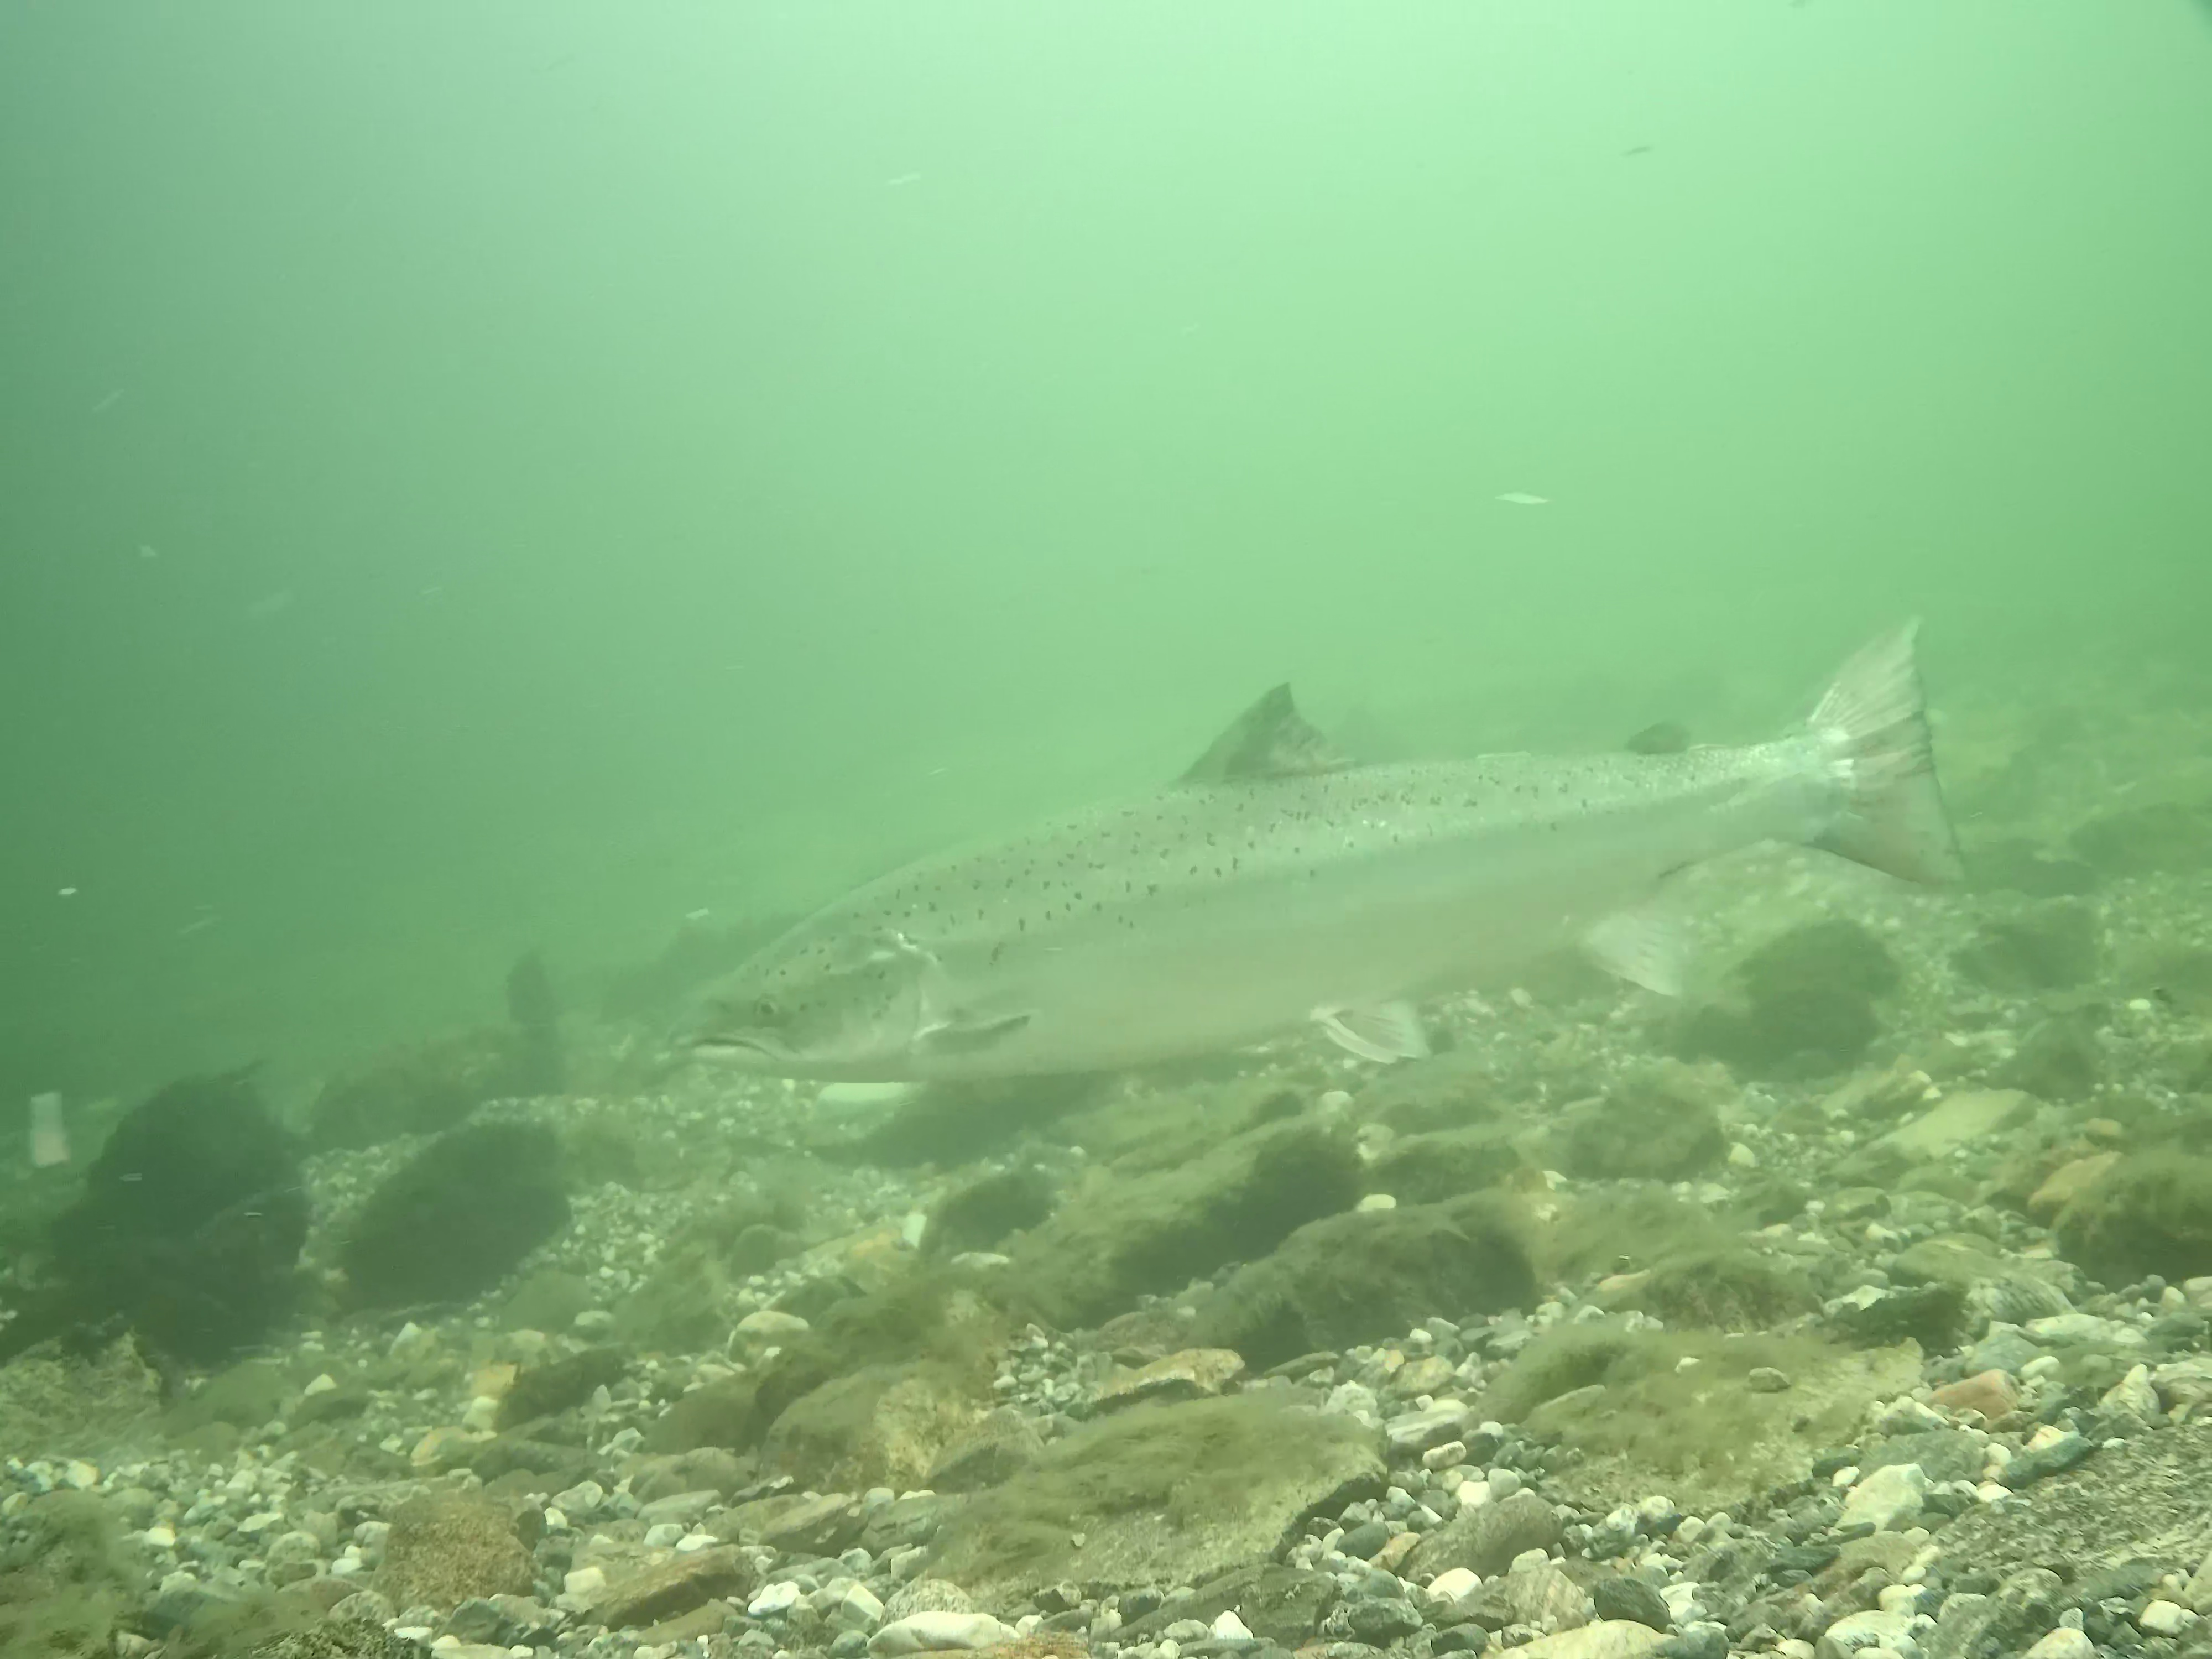salmon: (667, 612, 1970, 1089)
